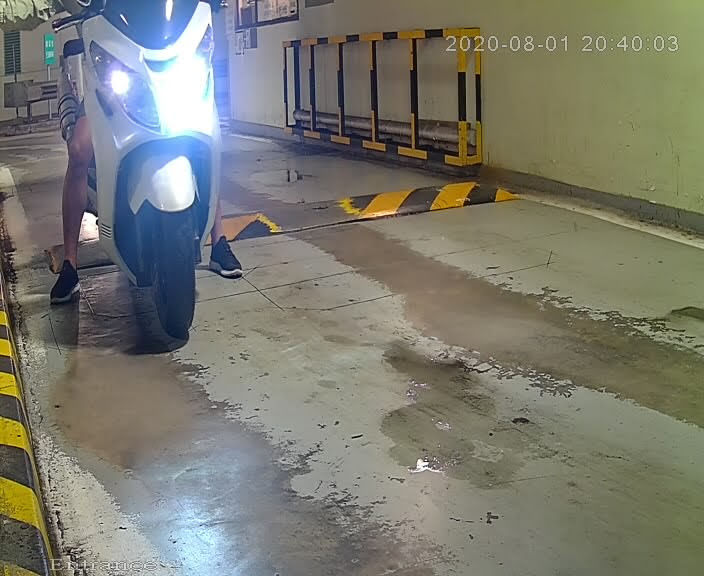motorcycle: (30, 1, 259, 340)
